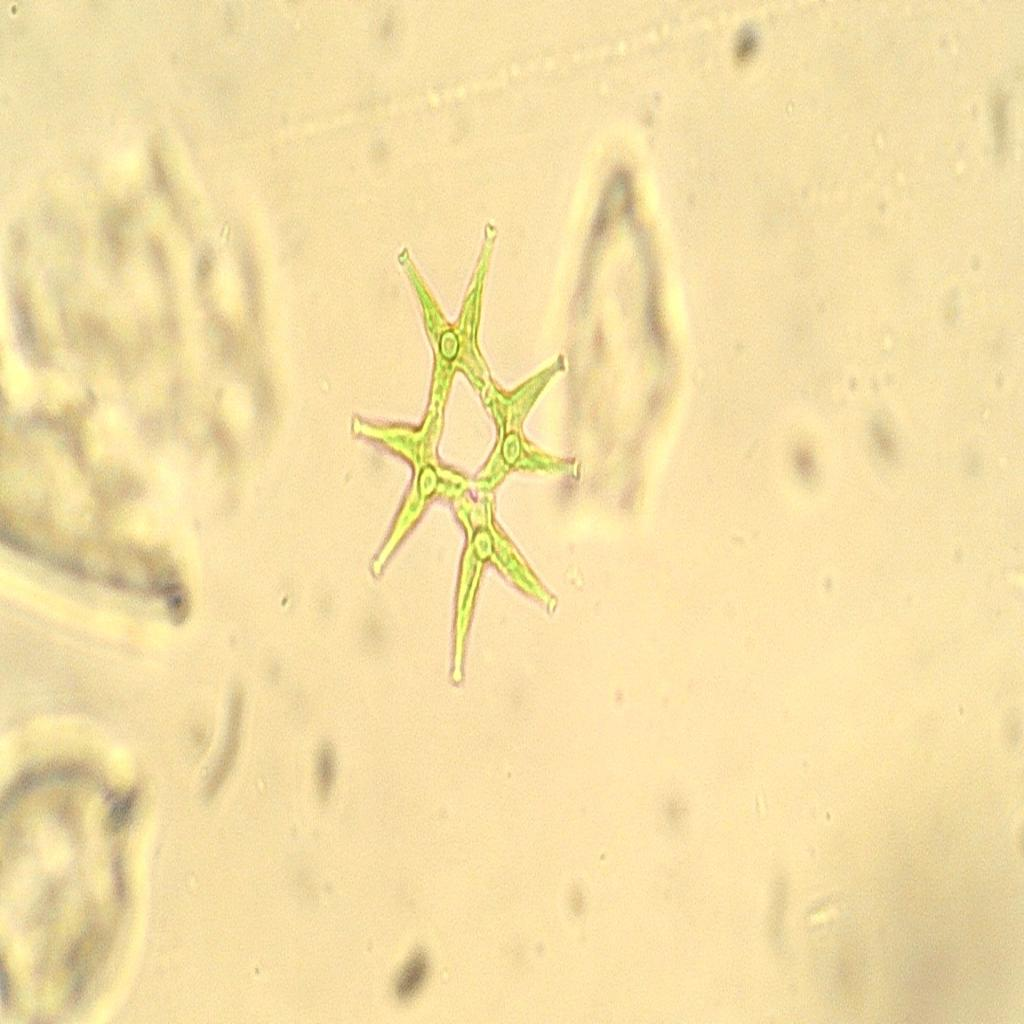Pediastrum_CT: (349, 205, 587, 695)
